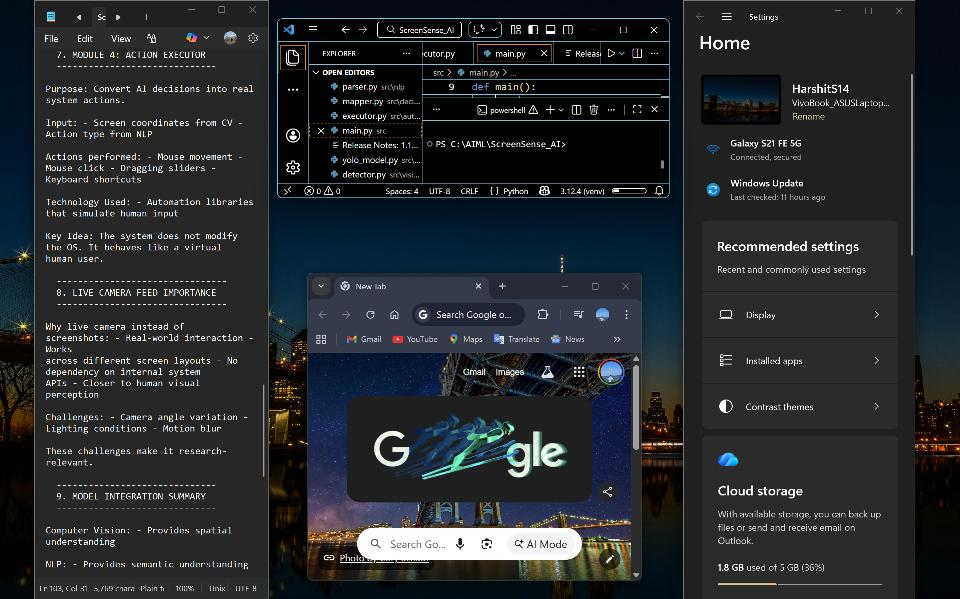close_button: (617, 276, 639, 298), (244, 2, 264, 25), (643, 21, 666, 39), (888, 2, 912, 19)
maximize_button: (211, 2, 234, 25), (586, 275, 607, 297), (615, 20, 635, 40), (860, 2, 879, 19)
minimize_button: (182, 2, 204, 24), (583, 22, 607, 40), (556, 276, 575, 297), (829, 2, 848, 19)
